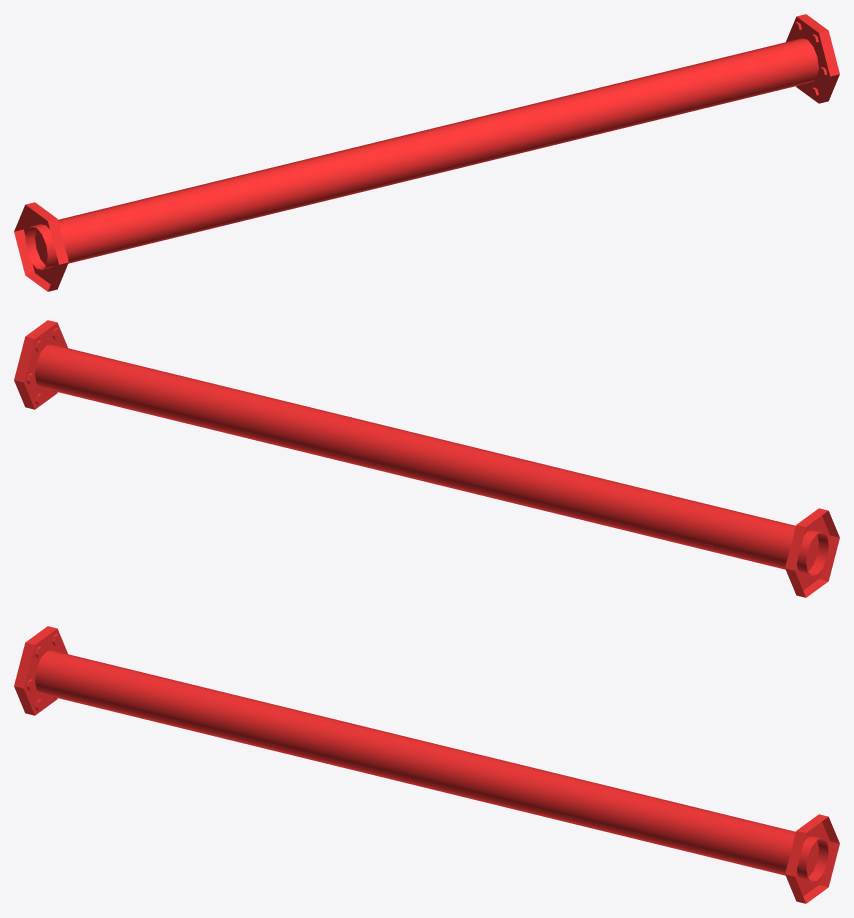
The model's file is I_Pipe.fbx.
3 renders of one model, top to bottom at view 1: azimuth 30°, elevation 25°; view 2: azimuth 150°, elevation 25°; view 3: azimuth 330°, elevation 25°, orthographic.
Parts seen in each view (by area): view 1: P2; view 2: P2; view 3: P2.
Part boxes in pixels (x1,y1,x2,y2): P2: (14, 14, 839, 291); P2: (14, 320, 839, 597); P2: (14, 626, 839, 903).
Bounding box in the file's own units: 10 × 0.866 × 1.
